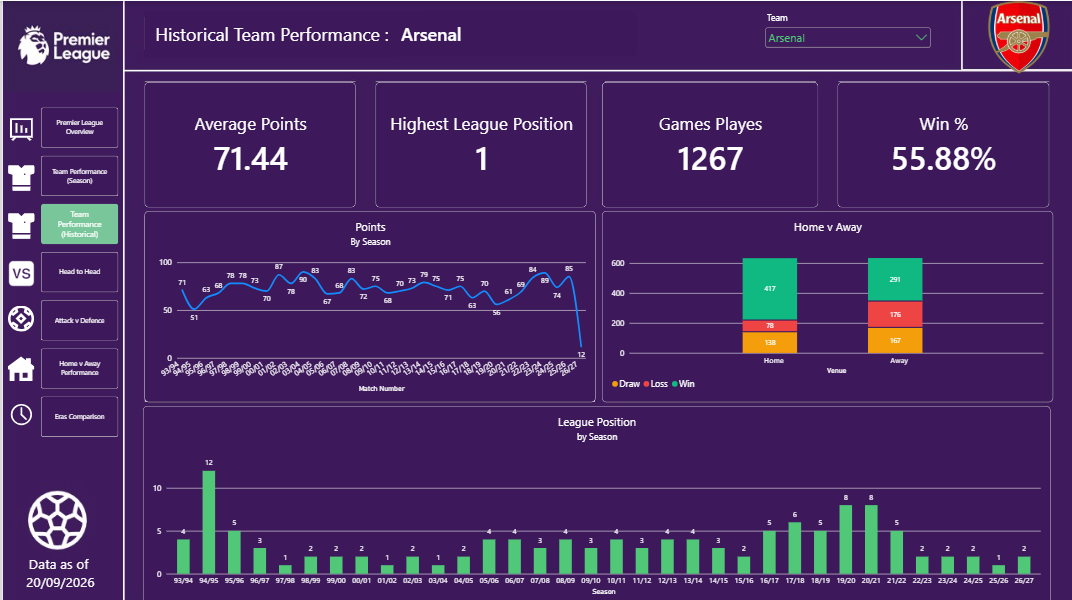

The page's visual inventory and layout, read from the dashboard file:
{"tool":"powerbi","page":{"name":"Team Performance (Historical)","canvas":[1920,1080],"ordinal":2},"visuals":[{"type":"pageNavigator","box":[69.2,188.9,138.3,594.5],"z":0},{"type":"image","box":[0,292.6,69.2,46.6],"z":1000},{"type":"image","box":[0,377.7,69.2,46.6],"z":2000},{"type":"image","box":[0,206.2,69.2,46.6],"z":3000},{"type":"image","box":[0,544,68.6,46.7],"z":4000},{"type":"image","box":[0,634.4,68.6,46.7],"z":5000},{"type":"textbox","box":[253.3,18.4,464.1,82.1],"z":7000},{"type":"cardVisual","fields":{"Data":["Min(dim_team.team_name)"]},"box":[697.5,18.4,437.2,80.6],"z":8000},{"type":"cardVisual","fields":{"Data":["Min(Season Analysis.LEAGUE_POSITION)"]},"box":[666.4,145,377.2,225],"z":9000},{"type":"cardVisual","fields":{"Data":["Sum(Season Analysis.Played)"]},"box":[1071.3,145.5,386.5,224.3],"z":10000},{"type":"cardVisual","fields":{"Data":["Season Analysis.Win %"]},"box":[1492.3,145,378.9,225],"z":11000},{"type":"image","box":[1711.8,0,208.8,129],"z":12000},{"type":"slicer","fields":{"Values":["dim_team.team_name"]},"box":[1356.9,18.4,304.7,83.2],"z":13000},{"type":"lineChart","title":"Points","fields":{"Category":["dim_season.season_name"],"Y":["Sum(Season Analysis.Points)"]},"box":[253.6,373.6,805.5,341.4],"z":14000},{"type":"cardVisual","fields":{"Data":["Avg(Season Analysis.Points)"]},"box":[254,145,377.2,225],"z":15000},{"type":"columnChart","title":"League Position ","fields":{"Category":["dim_season.season_name"],"Y":["Max(Season Analysis.LEAGUE_POSITION)"]},"box":[251.4,722.4,1620,355.5],"z":16000},{"type":"columnChart","title":"Home v Away","fields":{"Category":["Team_Match.venue"],"Series":["Team_Match.result"],"Y":["CountNonNull(Team_Match.match_id)"]},"box":[1070.5,373.6,805.5,341.4],"z":17000},{"type":"textbox","box":[0,988.9,209,86.7],"z":17001},{"type":"image","box":[0,715.6,69.2,46.9],"z":17002},{"type":"image","box":[0,462.9,69.2,46.9],"z":17003}]}

Visuals, with their boxes in screenshot pixels (x1, y1, x2, y2), scaled from the page's 1920x1080 canvas onto the 1072x600 screenshot:
pageNavigator: detection(39, 105, 116, 435)
image: detection(0, 163, 39, 188)
image: detection(0, 210, 39, 236)
image: detection(0, 115, 39, 140)
image: detection(0, 302, 38, 328)
image: detection(0, 352, 38, 378)
textbox: detection(141, 10, 401, 56)
cardVisual - Min(dim_team.team_name): detection(389, 10, 634, 55)
cardVisual - Min(Season Analysis.LEAGUE_POSITION): detection(372, 81, 583, 206)
cardVisual - Sum(Season Analysis.Played): detection(598, 81, 814, 205)
cardVisual - Season Analysis.Win %: detection(833, 81, 1045, 206)
image: detection(956, 0, 1071, 72)
slicer - dim_team.team_name: detection(758, 10, 928, 56)
"Points" lineChart: detection(142, 208, 591, 397)
cardVisual - Avg(Season Analysis.Points): detection(142, 81, 352, 206)
"League Position " columnChart: detection(140, 401, 1045, 599)
"Home v Away" columnChart: detection(598, 208, 1047, 397)
textbox: detection(0, 549, 117, 598)
image: detection(0, 398, 39, 424)
image: detection(0, 257, 39, 283)
